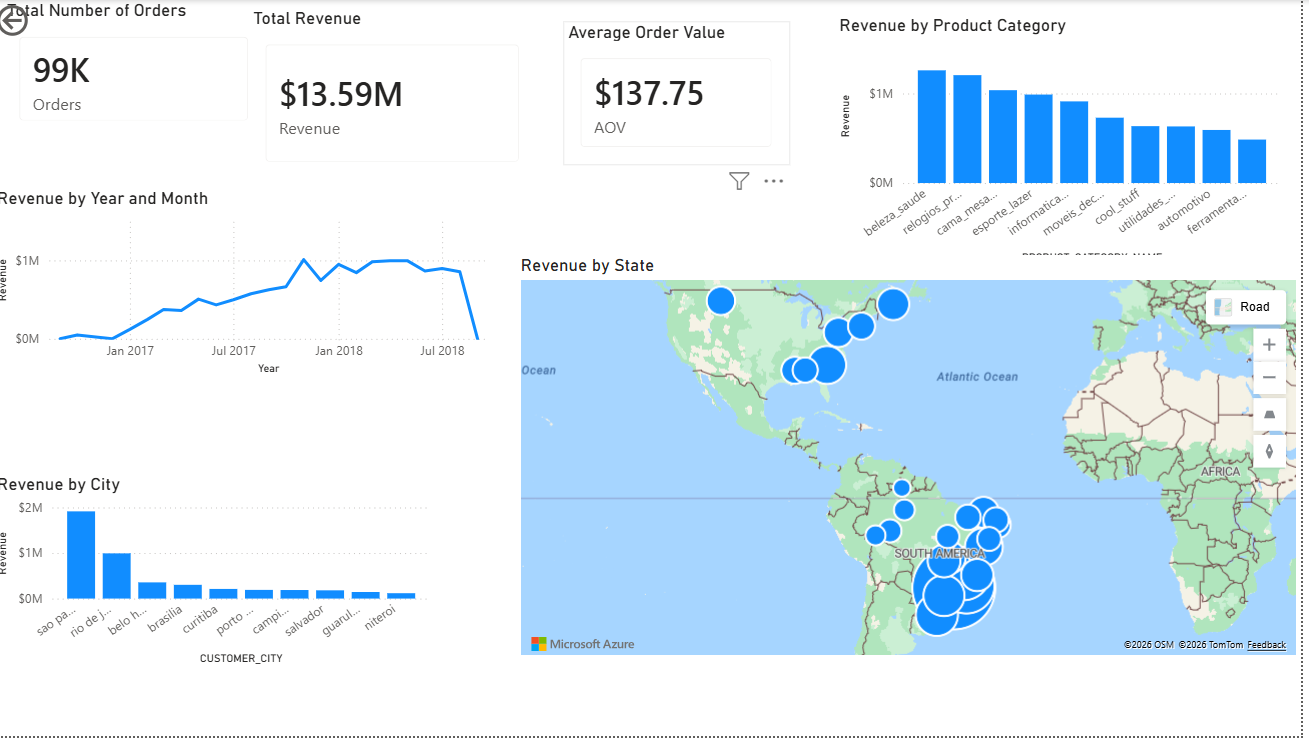

The page's visual inventory and layout, read from the dashboard file:
{"tool":"powerbi","page":{"name":"Page 1","canvas":[1280,720],"ordinal":0},"visuals":[{"type":"cardVisual","title":"Total Number of Orders","fields":{"Data":["FACT_ORDERS.Orders"]},"box":[9.8,0,258,135.7],"z":0},{"type":"cardVisual","title":"Total Revenue","fields":{"Data":["FACT_ORDERS.Revenue"]},"box":[251.1,6.9,282.7,168.8],"z":1000},{"type":"cardVisual","title":"Average Order Value","fields":{"Data":["FACT_ORDERS.AOV"]},"box":[558.8,20.8,221.3,140.6],"z":2000},{"type":"lineChart","fields":{"Y":["FACT_ORDERS.Revenue"],"Category":["FACT_ORDERS.PURCHASE_DATE.Variation.Date Hierarchy.Year","FACT_ORDERS.PURCHASE_DATE.Variation.Date Hierarchy.Month"]},"box":[0,183.9,502.2,188],"z":3000},{"type":"columnChart","title":"Revenue by Product Category ","fields":{"Y":["FACT_ORDERS.Revenue"],"Category":["DIM_PRODUCTS.PRODUCT_CATEGORY_NAME"]},"box":[824.7,15.1,441.9,248.4],"z":4000},{"type":"columnChart","title":"Revenue by City","fields":{"Y":["FACT_ORDERS.Revenue"],"Category":["DIM_CUSTOMER.CUSTOMER_CITY"]},"box":[0,463.8,433.6,192.1],"z":5000},{"type":"actionButton","box":[0,0,100,40],"z":6000},{"type":"azureMap","title":"Revenue by State","fields":{"Category":["DIM_CUSTOMER.CUSTOMER_STATE"],"Size":["FACT_ORDERS.Revenue"]},"box":[511.8,249.7,768.4,396.6],"z":7000}]}

Visuals, with their boxes in screenshot pixels (x1, y1, x2, y2), scaled from the page's 1280x720 canvas onto the 1309x741 screenshot:
"Total Number of Orders" cardVisual: bbox=[10, 0, 274, 140]
"Total Revenue" cardVisual: bbox=[257, 7, 546, 181]
"Average Order Value" cardVisual: bbox=[571, 21, 798, 166]
lineChart - FACT_ORDERS.Revenue x FACT_ORDERS.PURCHASE_DATE.Variation.Date Hierarchy.Year: bbox=[0, 189, 514, 383]
"Revenue by Product Category " columnChart: bbox=[843, 16, 1295, 271]
"Revenue by City" columnChart: bbox=[0, 477, 443, 675]
actionButton: bbox=[0, 0, 102, 41]
"Revenue by State" azureMap: bbox=[523, 257, 1308, 665]
